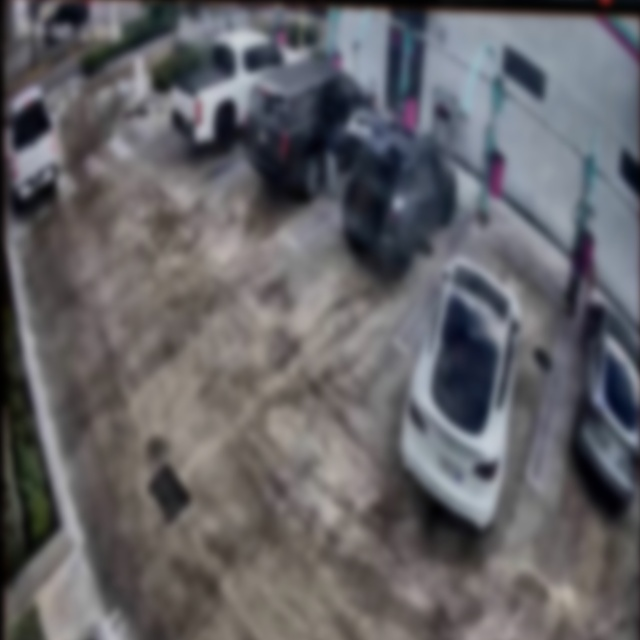Car: (398, 253, 521, 537), (343, 105, 457, 279), (244, 58, 377, 205)
